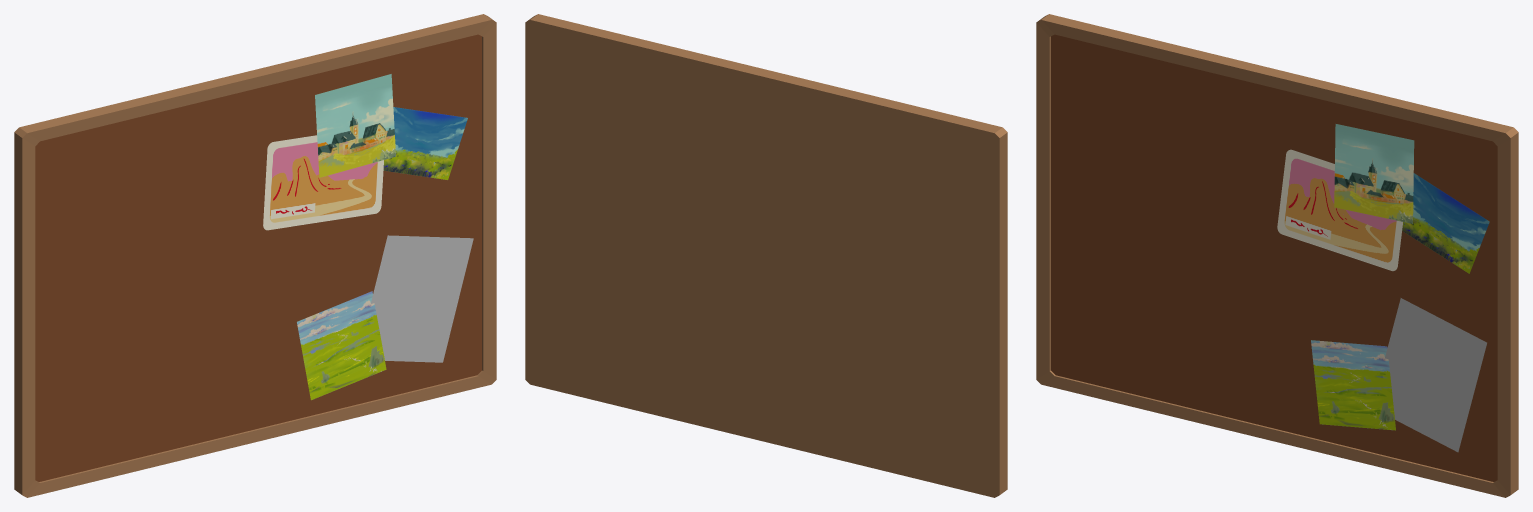
Rendered from Postboard_leftside.fbx.
The picture shows the model from 3 angles, left to right: view 1: azimuth 30°, elevation 25°; view 2: azimuth 150°, elevation 25°; view 3: azimuth 330°, elevation 25°; orthographic projection.
Visible parts, largest first — view 1: Postboard left; view 2: Postboard left; view 3: Postboard left.
Part boxes in pixels (x1,y1,x2,y2): Postboard left: (14, 14, 496, 497); Postboard left: (525, 14, 1007, 497); Postboard left: (1036, 14, 1518, 497).
Size of the model in its own units: 233 by 171 by 9.04.
